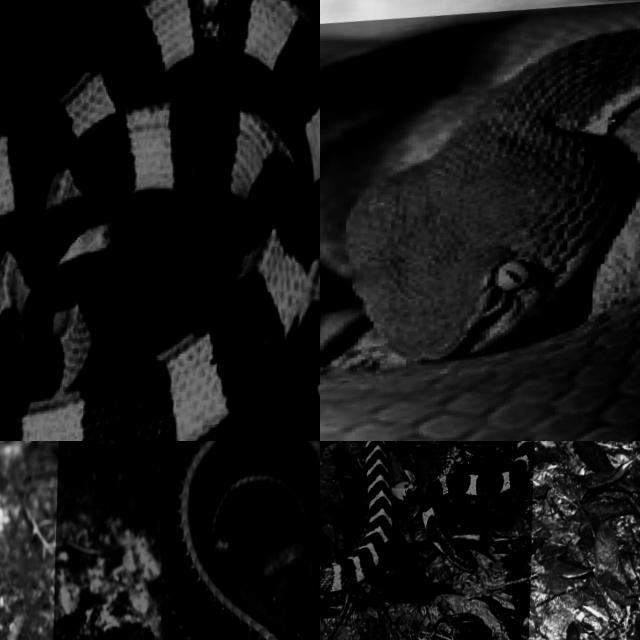Bungarus fasciatus: (0, 0, 319, 440), (421, 441, 534, 570)
Calliophis intestinalis: (162, 441, 319, 639)
Trimeresurus macrops: (320, 2, 639, 440)
snake: (0, 0, 319, 440), (320, 2, 639, 440), (162, 441, 319, 639), (421, 441, 534, 570)
